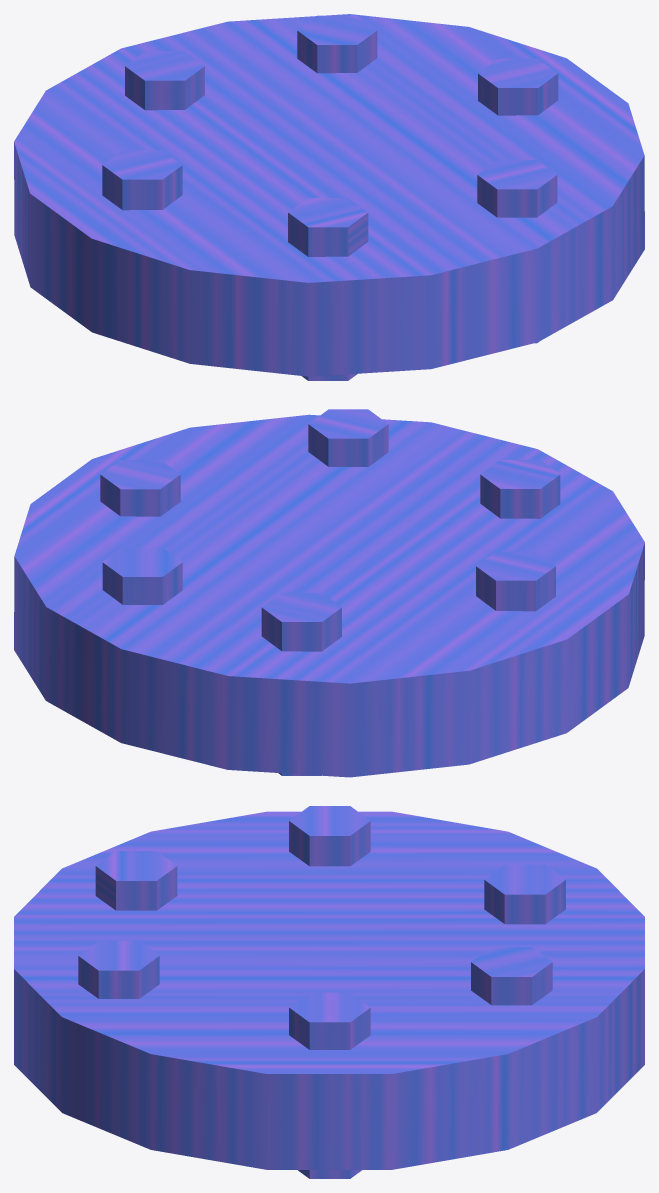
Rendered from PipeConnector.glb.
3 views of the same model, one above another, from view 1: azimuth 30°, elevation 25°; view 2: azimuth 150°, elevation 25°; view 3: azimuth 270°, elevation 25° (orthographic).
Parts seen in each view (by area): view 1: Cylinder.011; view 2: Cylinder.011; view 3: Cylinder.011.
Boxes of the visible parts, x1,y1,x2,y2 form: Cylinder.011: (14, 14, 644, 380); Cylinder.011: (14, 409, 644, 777); Cylinder.011: (14, 806, 644, 1178).
Bounding box in the file's own units: 0.2852 × 0.078 × 0.285.
1 material, 1 textured.
